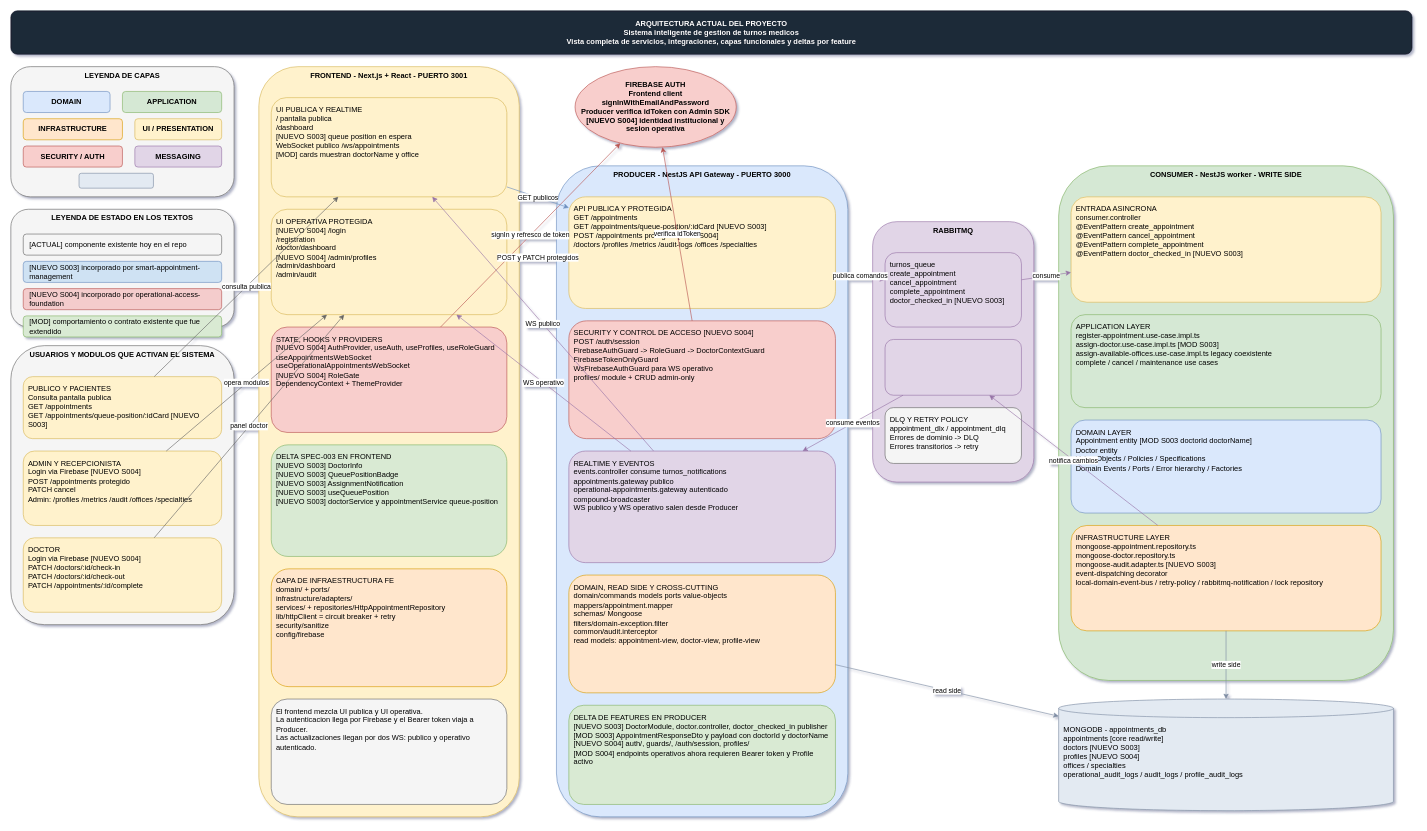
The diagram is 1427 pixels wide and 831 high, and some of its shapes have lost their labels. The shapes that lost their labels are listed below. From the top down, each one's centre as x and y in pixels, then its label:
the point at 115,180: DATA
the point at 952,367: turnos_notifications appointment_created appointment_updated
